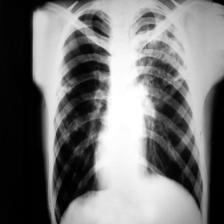tuberculosis: (46, 1, 207, 224)
